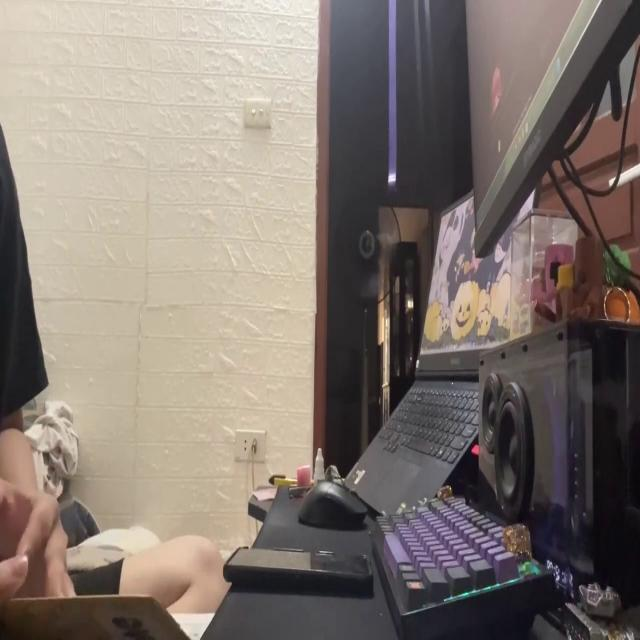book: (0, 589, 215, 640)
laptop: (347, 167, 541, 514), (461, 2, 640, 270)
phone: (222, 540, 376, 604)
student: (0, 121, 226, 640)
